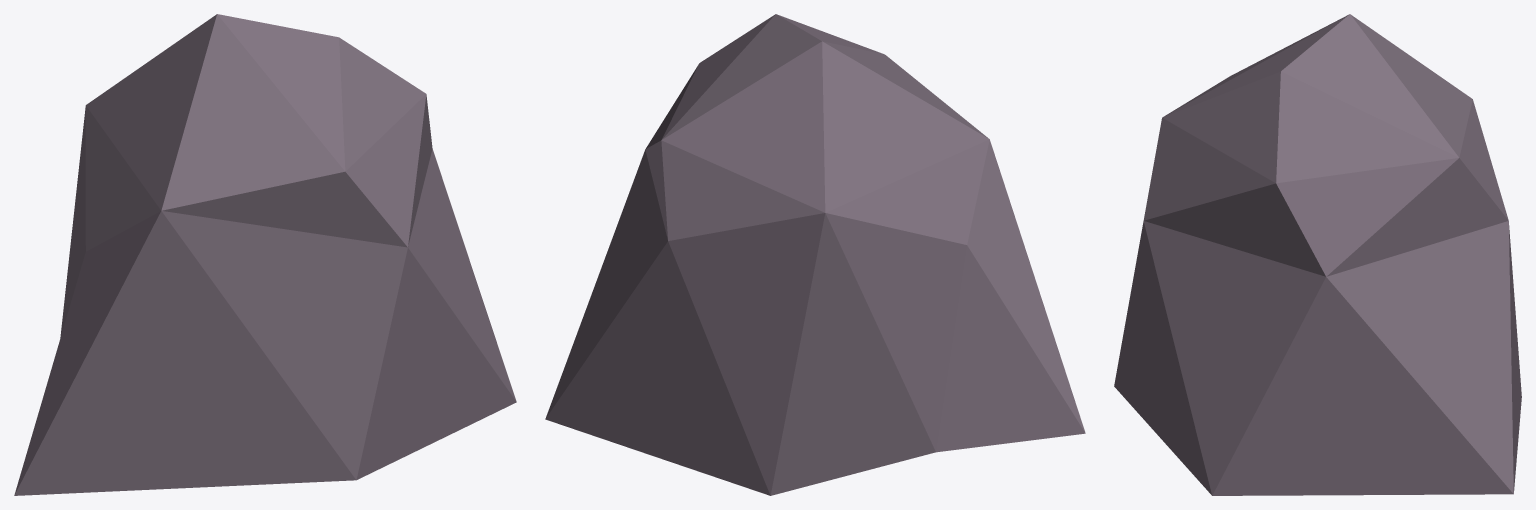
Rendered from Rock_v10.fbx.
The picture shows the model from 3 angles, left to right: view 1: azimuth 30°, elevation 25°; view 2: azimuth 150°, elevation 25°; view 3: azimuth 270°, elevation 25°; orthographic projection. The views are drawn at different scales.
Visible parts, largest first — view 1: Rock_v10; view 2: Rock_v10; view 3: Rock_v10.
Boxes of the visible parts, box(x1,y1,x2,y2) form: Rock_v10: box(14, 14, 516, 495); Rock_v10: box(545, 14, 1085, 495); Rock_v10: box(1114, 14, 1521, 495).
Size of the model in its own units: 41.24 by 35.4 by 32.22.
Materials: 1 (1 with a texture image).
